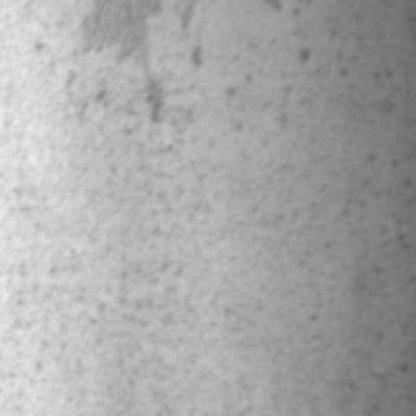pitted_surface: (4, 0, 408, 402)
